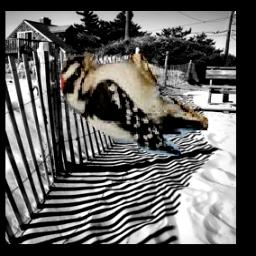Woodpecker: (60, 46, 213, 156)
